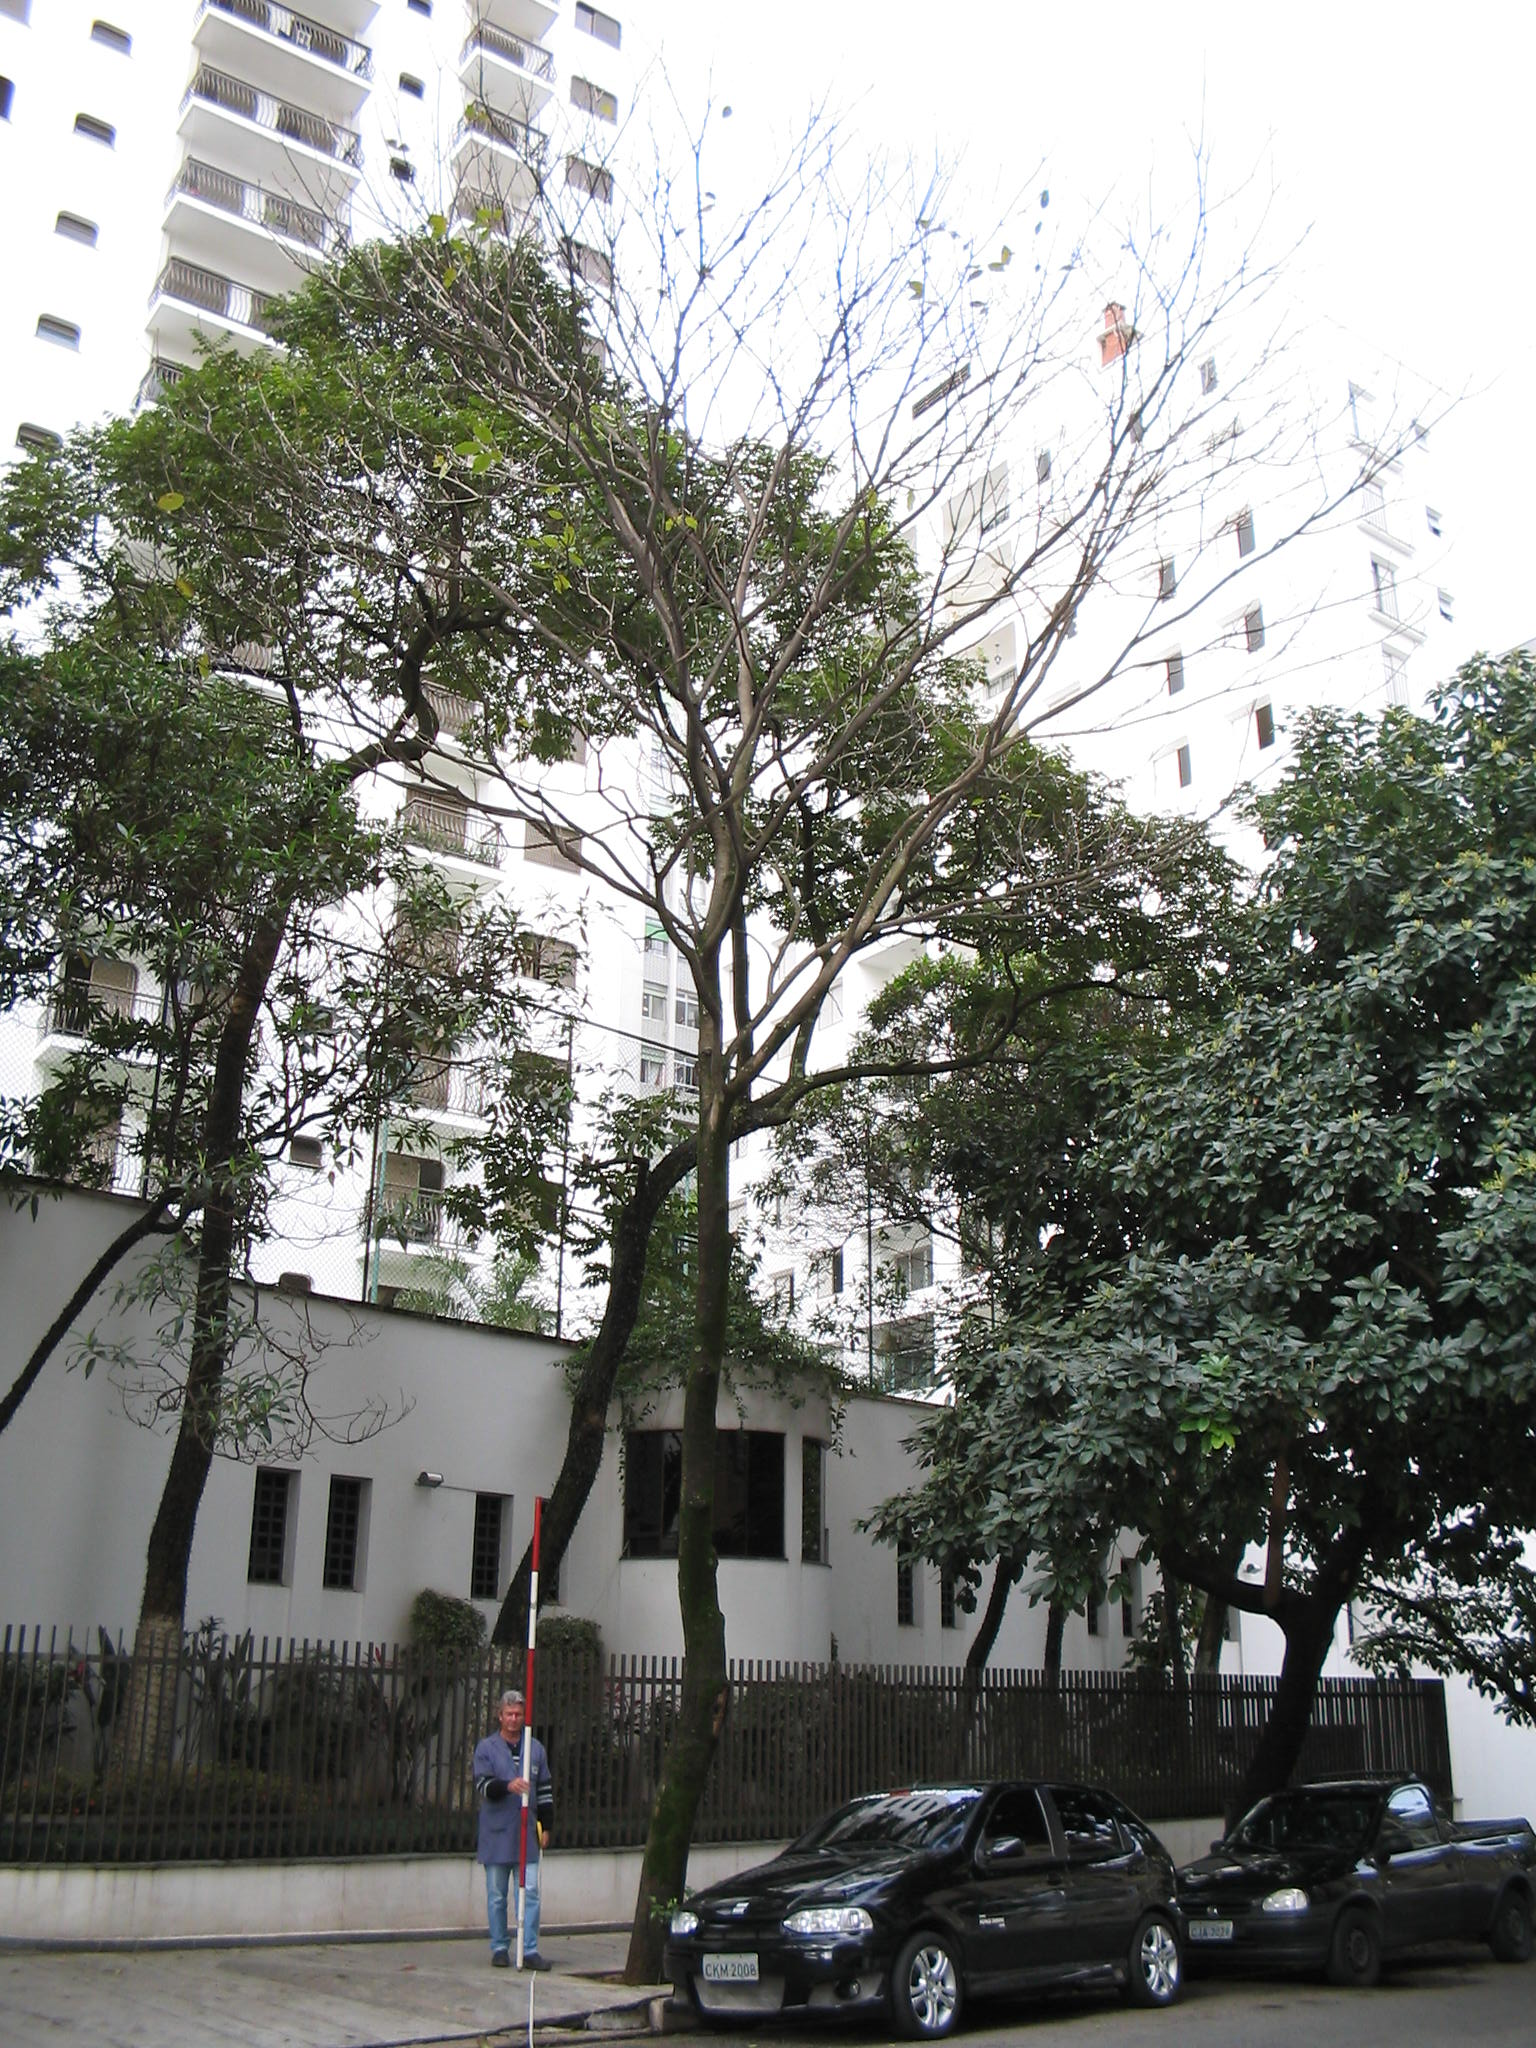stem: (616, 1343, 744, 1982)
stick: (502, 1498, 557, 1972)
tree: (273, 19, 1467, 1980)
